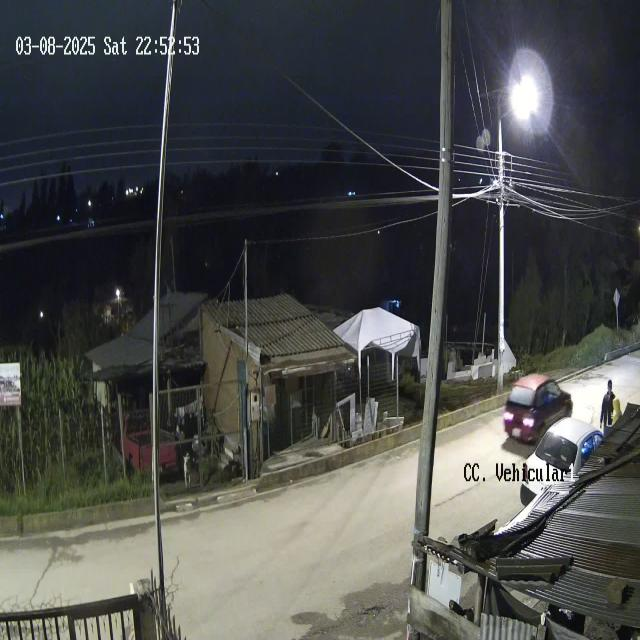SED: (503, 376, 572, 442)
